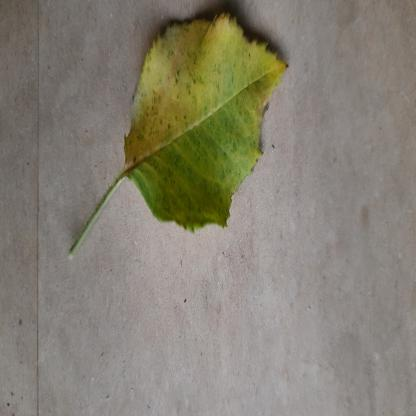black-spot: (122, 7, 292, 238)
